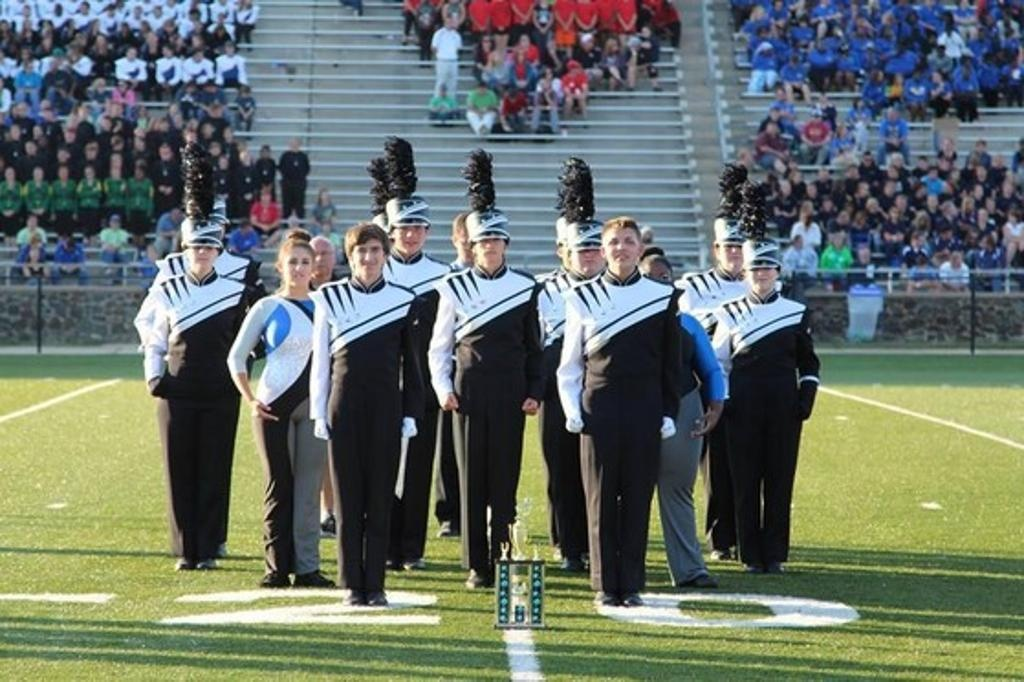human_face: (604, 230, 638, 268), (280, 248, 312, 286), (352, 240, 382, 276), (394, 218, 424, 254), (573, 239, 603, 273), (642, 263, 670, 299), (746, 262, 776, 294), (188, 239, 216, 271), (475, 231, 503, 262), (308, 242, 330, 278), (720, 240, 746, 270), (456, 231, 480, 261), (563, 242, 585, 268), (109, 155, 121, 171), (84, 142, 96, 158), (200, 122, 212, 138), (159, 146, 171, 160), (207, 142, 219, 156), (11, 103, 23, 117), (10, 124, 20, 140), (968, 233, 980, 245), (168, 209, 180, 221), (3, 168, 15, 180), (64, 130, 76, 142), (32, 168, 42, 182), (240, 152, 250, 166), (57, 148, 67, 162), (858, 248, 868, 262), (976, 208, 986, 222), (973, 184, 983, 198), (848, 2, 858, 16), (978, 234, 988, 248), (519, 34, 529, 48), (94, 34, 104, 48), (101, 119, 111, 132), (110, 102, 120, 115), (858, 182, 868, 195), (83, 167, 93, 179), (289, 140, 299, 152), (25, 144, 35, 156), (32, 126, 42, 138), (38, 102, 48, 114), (156, 120, 166, 132), (869, 200, 879, 212), (756, 26, 768, 36), (856, 20, 866, 32), (816, 22, 826, 34), (496, 32, 506, 44), (319, 191, 329, 203), (242, 222, 252, 234), (260, 192, 270, 204), (32, 235, 42, 247), (26, 217, 36, 229), (946, 202, 956, 214), (916, 216, 928, 226), (862, 155, 872, 167), (892, 156, 902, 168), (40, 38, 50, 50), (172, 113, 182, 125), (896, 197, 906, 209), (926, 195, 936, 207), (58, 166, 66, 180), (222, 127, 230, 141), (1000, 168, 1008, 182), (754, 6, 762, 20), (66, 44, 74, 58), (448, 15, 456, 28), (885, 180, 893, 193), (109, 169, 119, 179), (132, 169, 142, 179), (114, 80, 124, 90), (928, 168, 938, 178), (788, 57, 798, 67), (762, 46, 772, 56), (772, 0, 782, 10), (880, 12, 890, 22), (322, 221, 332, 231), (108, 218, 118, 228), (46, 61, 56, 71), (20, 21, 30, 31), (188, 11, 198, 21), (765, 122, 775, 132), (147, 36, 157, 46), (218, 158, 226, 170), (110, 143, 122, 151), (890, 206, 898, 218), (126, 49, 134, 61), (977, 167, 985, 179), (916, 156, 924, 168), (544, 67, 552, 79), (640, 26, 648, 38), (289, 216, 297, 228), (875, 69, 883, 81), (134, 136, 142, 148), (818, 170, 826, 182), (582, 38, 592, 47), (477, 84, 487, 93), (502, 52, 512, 61), (795, 237, 803, 248), (225, 44, 233, 55), (94, 84, 102, 94), (833, 236, 841, 246), (950, 257, 958, 267), (840, 213, 848, 223), (807, 186, 815, 196), (781, 184, 789, 194), (161, 46, 169, 56), (25, 64, 33, 74), (944, 231, 952, 241), (1008, 212, 1016, 222), (943, 140, 951, 150), (798, 19, 808, 27), (610, 42, 618, 52), (482, 37, 490, 47), (64, 240, 72, 250), (20, 48, 28, 58), (120, 24, 128, 34), (140, 20, 148, 30), (162, 22, 172, 30), (216, 26, 224, 36), (78, 2, 86, 12), (54, 4, 62, 14), (962, 199, 970, 209), (801, 212, 809, 222), (806, 202, 814, 212), (771, 108, 779, 118), (886, 112, 894, 122), (882, 28, 892, 36), (962, 70, 970, 80), (1009, 56, 1017, 66), (976, 28, 984, 38), (983, 12, 991, 22), (1001, 10, 1009, 20), (945, 20, 953, 30), (192, 36, 200, 46), (793, 172, 801, 182), (193, 50, 201, 59), (516, 52, 524, 61), (90, 20, 98, 29), (962, 57, 970, 66), (22, 6, 30, 15), (818, 95, 826, 104), (960, 1, 966, 12), (260, 148, 268, 156), (137, 107, 145, 115), (205, 84, 213, 92), (240, 90, 248, 98), (823, 200, 831, 208), (816, 40, 824, 48), (539, 0, 547, 8), (572, 64, 580, 72), (438, 88, 446, 96), (242, 0, 250, 8), (152, 6, 160, 14), (812, 116, 820, 124), (912, 70, 920, 78), (211, 98, 219, 106), (186, 82, 192, 92), (976, 142, 982, 152), (993, 156, 999, 166), (906, 12, 916, 18), (217, 12, 223, 22), (838, 126, 844, 136), (898, 39, 904, 49), (0, 22, 7, 30), (116, 0, 124, 7), (940, 15, 946, 23), (937, 46, 943, 54), (508, 95, 514, 103), (218, 0, 226, 6), (133, 7, 139, 15), (776, 91, 782, 99), (855, 100, 863, 106), (932, 72, 938, 80), (985, 55, 991, 63), (910, 239, 916, 246), (107, 7, 113, 14), (167, 0, 173, 7), (986, 200, 992, 206), (424, 12, 430, 18)
